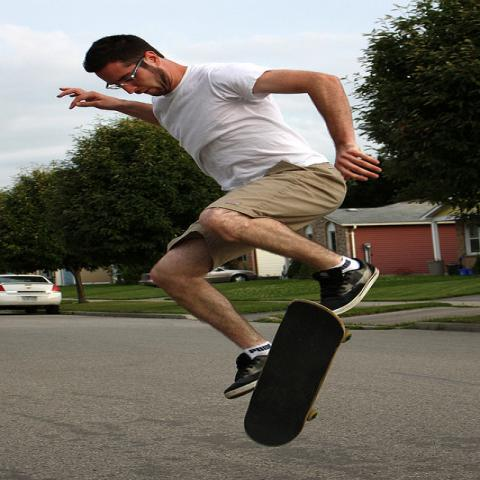car: (0, 274, 62, 314), (203, 266, 257, 283)
